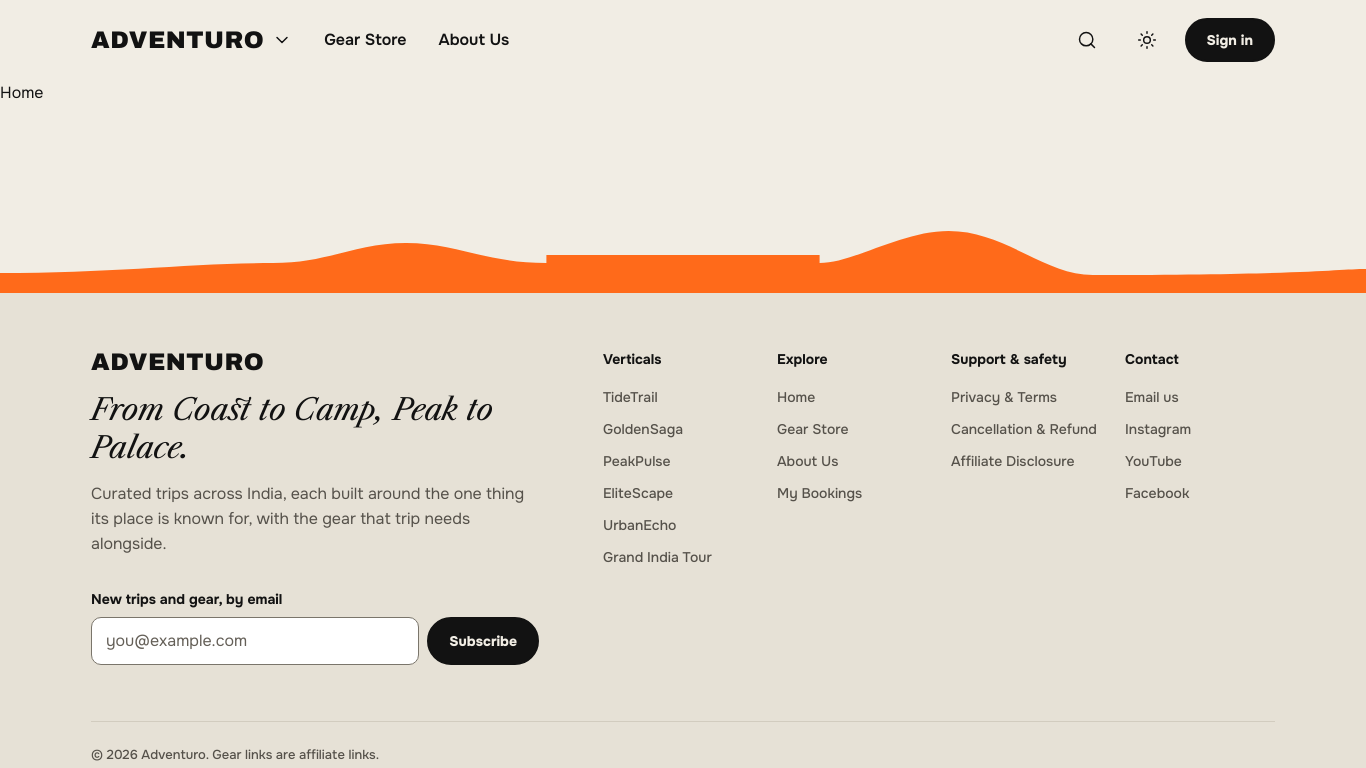
Test: SearchOverlay › opens the focused result on Enter and closes
This screenshot has width=1366, height=768.
Click the button named "Search": [1086, 40] box [1064,18,1108,62]
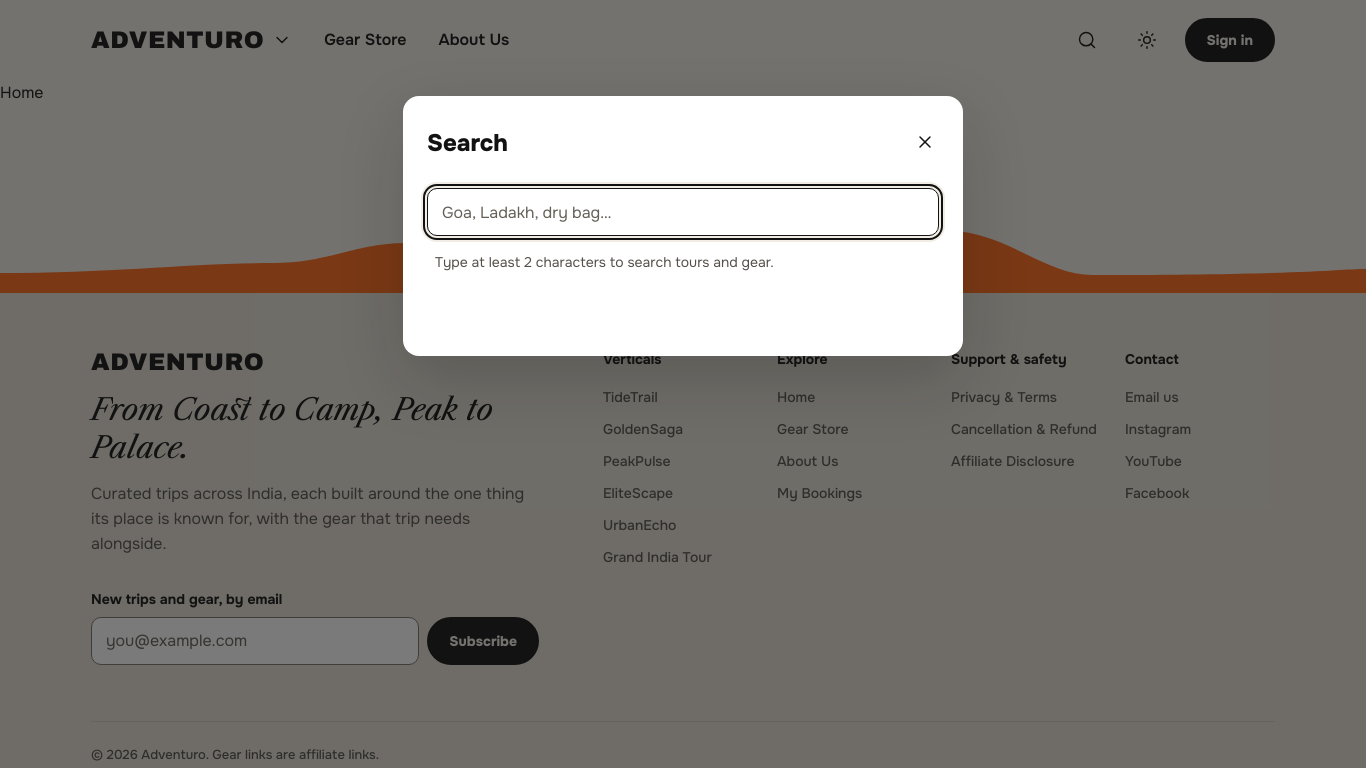
In the search field named "Search tours and gear": [683, 212] box [427,188,939,236], type "goa"
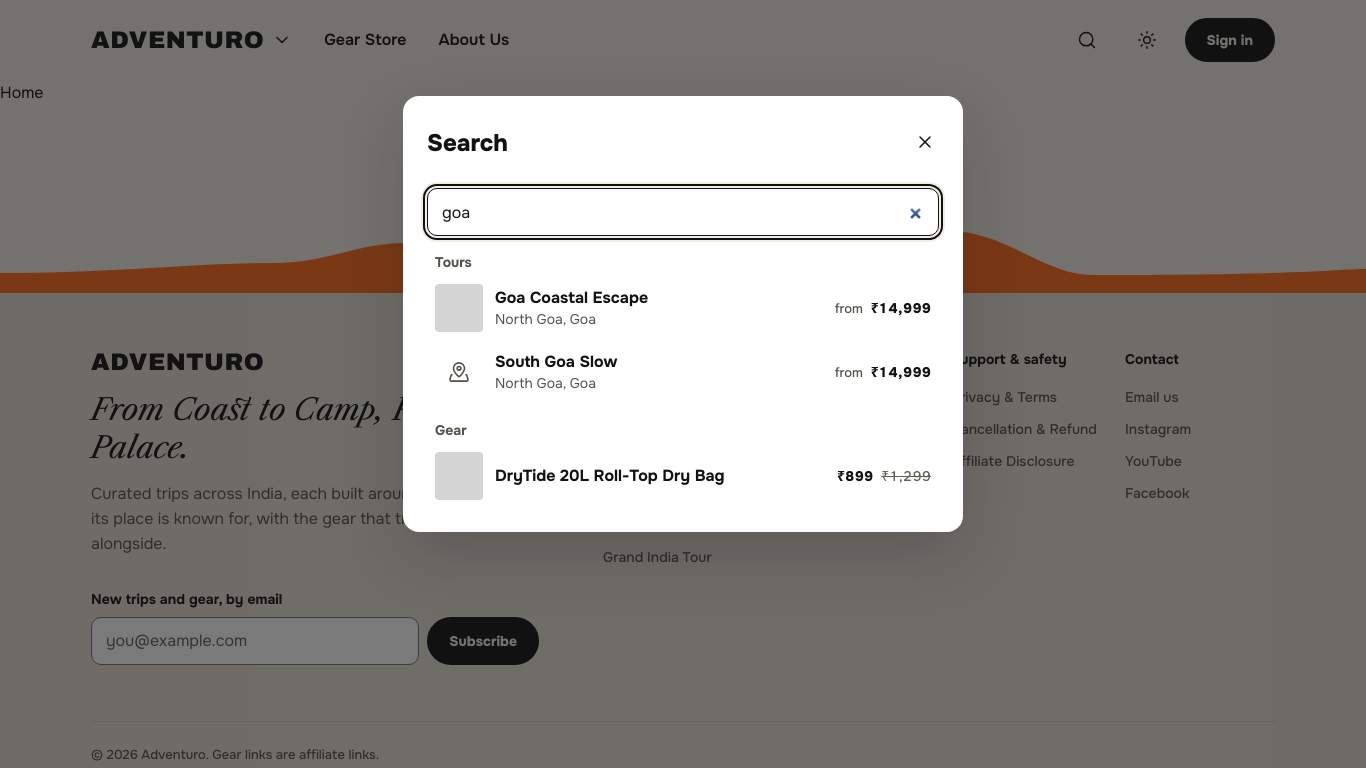
Now the link "Goa Coastal Escape North Goa, Goa from ₹14,999" is shown, box [427,276,939,340]
Press Arrowdown Arrowdown Arrowdown Enter
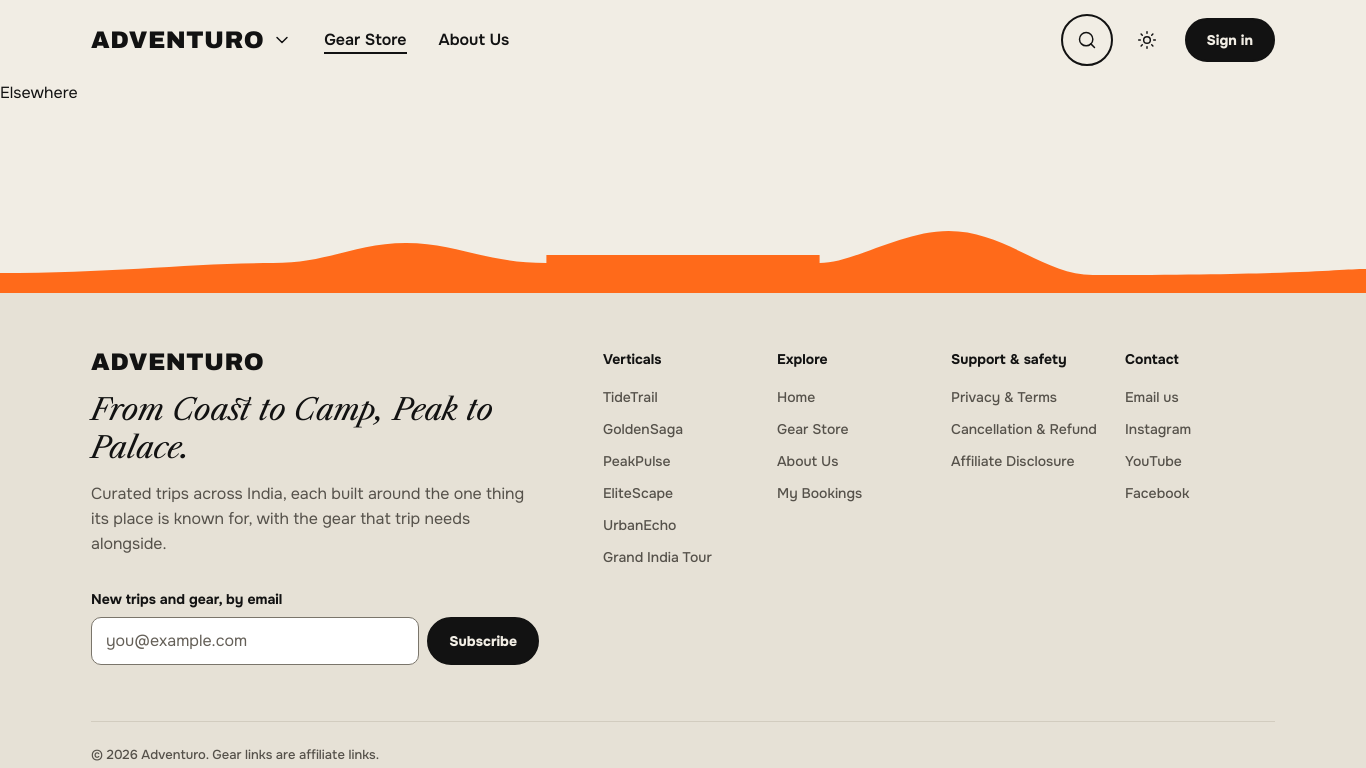
Now the dialog is gone
